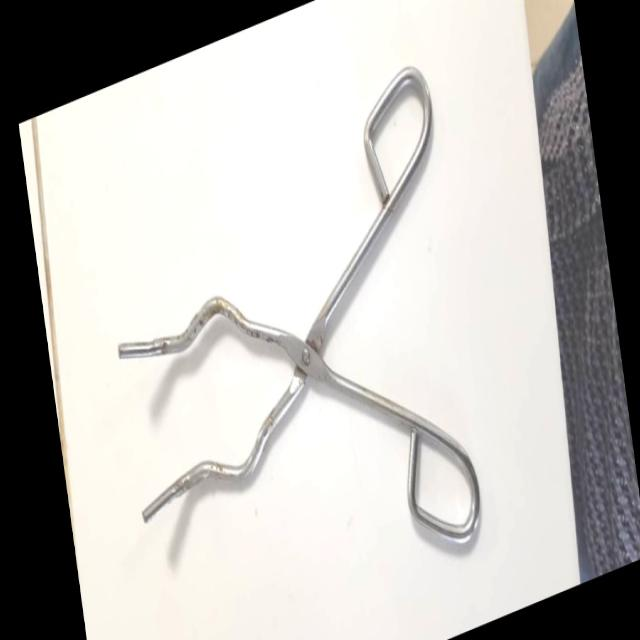Tongue: (81, 45, 509, 640)
